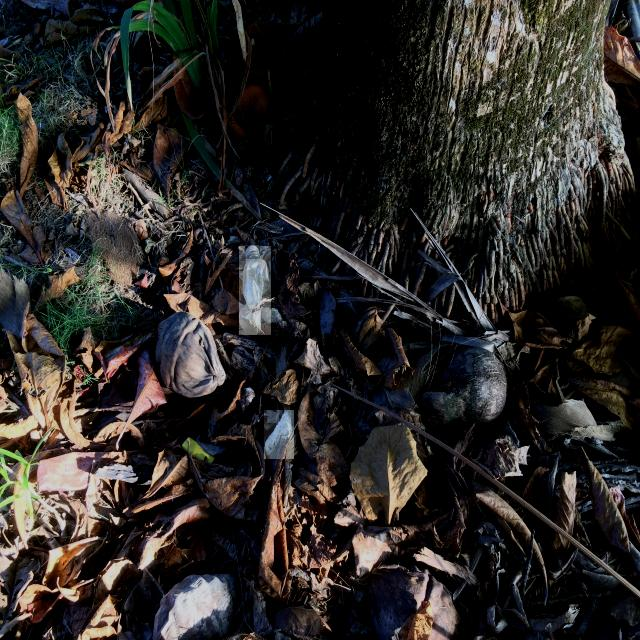Bottle cap: (245, 246, 259, 259)
Clear plastic bottle: (239, 246, 270, 335)
Styrofoam piece: (264, 410, 293, 459)
